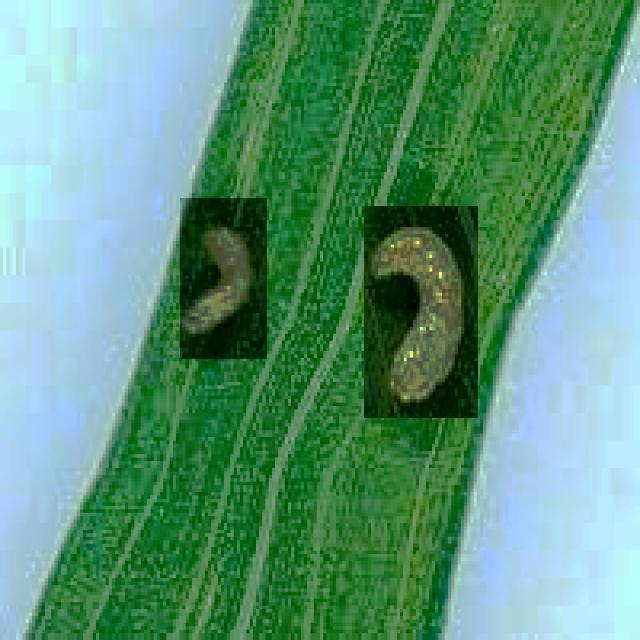whorl-maggot: (365, 206, 479, 418), (180, 198, 267, 359)
